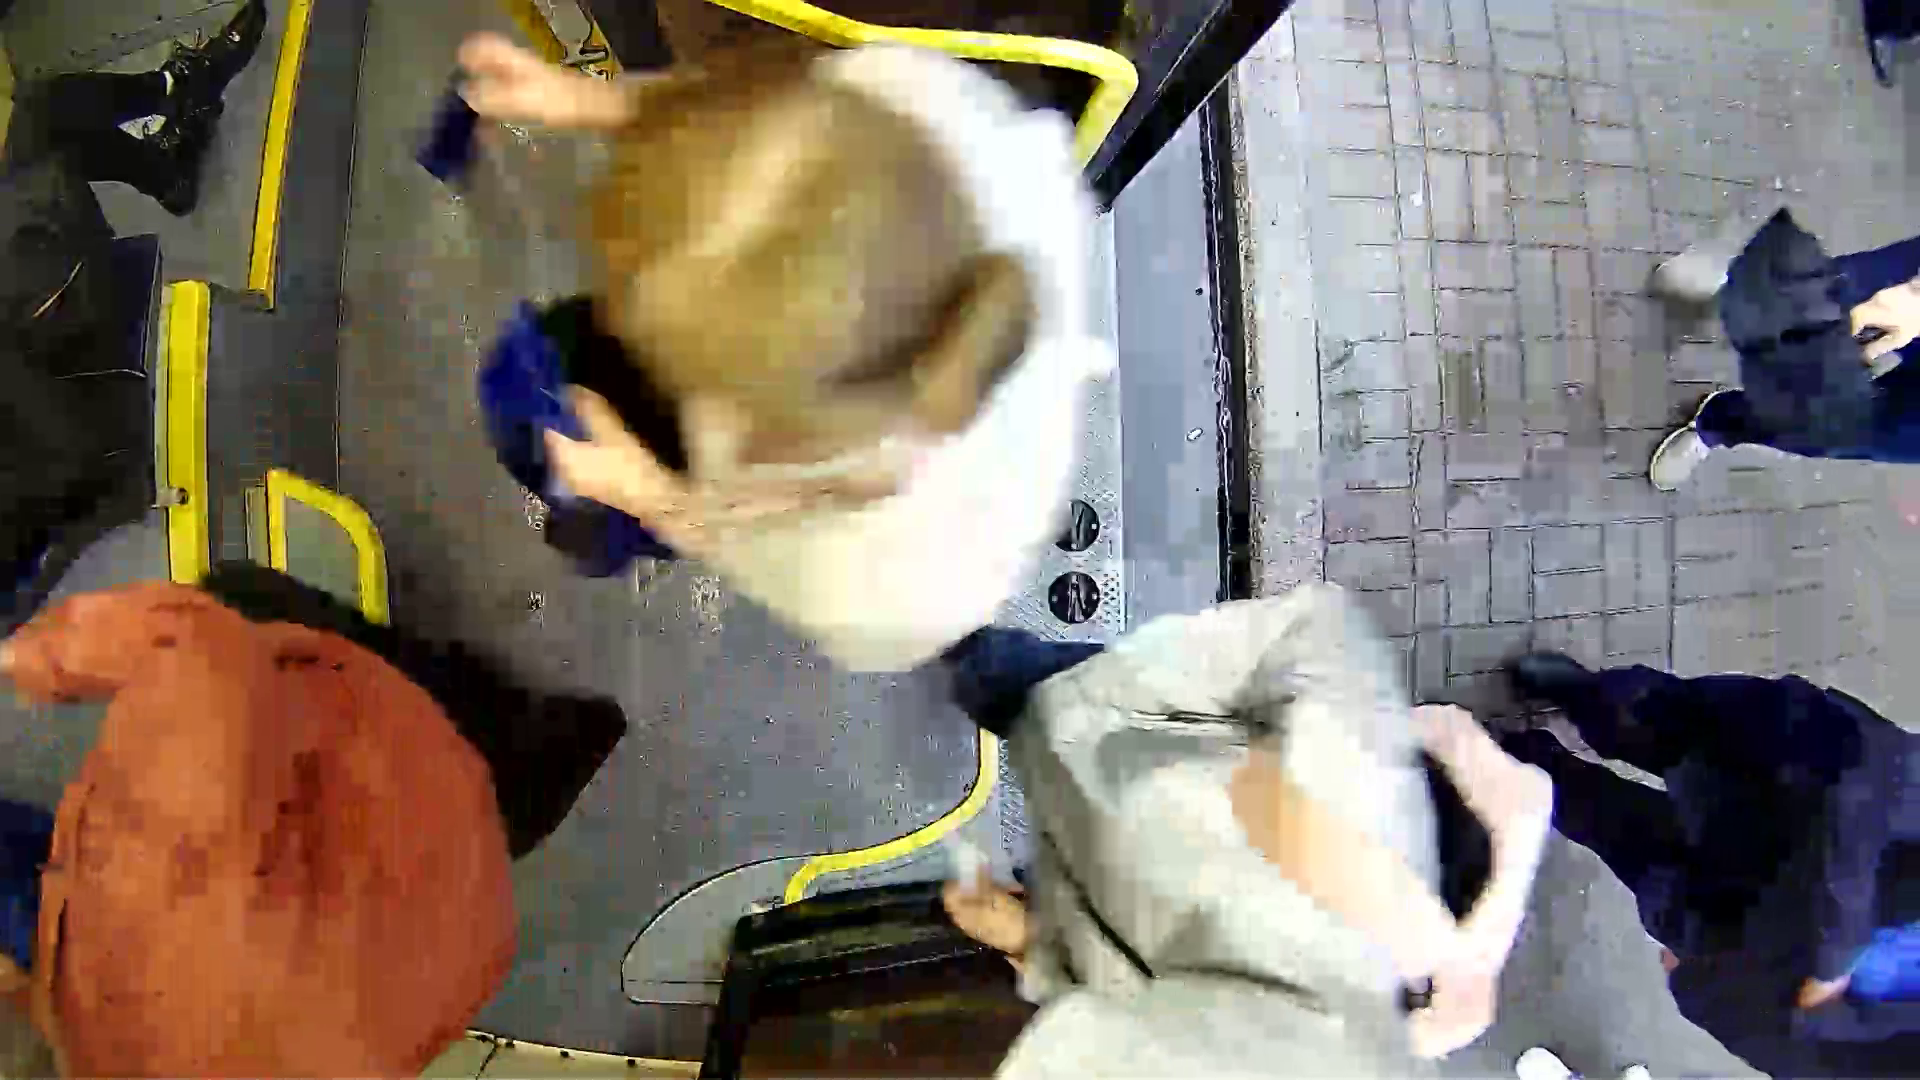person: (424, 53, 1178, 667)
